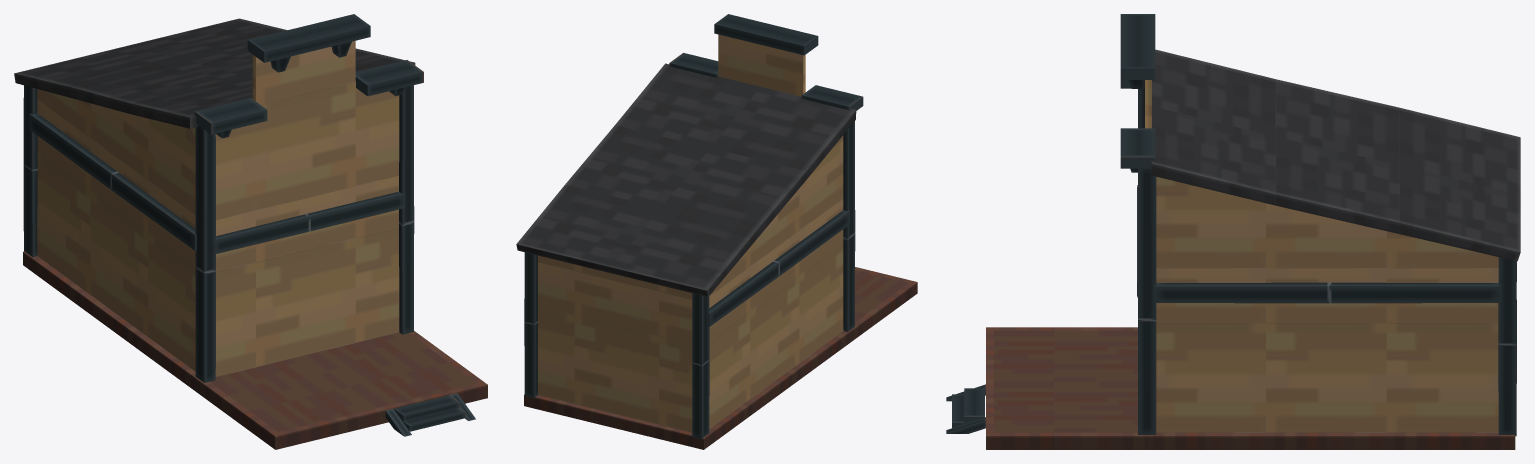
File: house_v4_blank_ncl1_5.fbx
3 renders of one model, left to right at view 1: azimuth 30°, elevation 25°; view 2: azimuth 150°, elevation 25°; view 3: azimuth 270°, elevation 25°, orthographic. The views are drawn at different scales.
Parts seen in each view (by area): view 1: house_v4_blank; view 2: house_v4_blank; view 3: house_v4_blank.
Boxes of the visible parts, <box> form: house_v4_blank: <box>14,14,487,449</box>; house_v4_blank: <box>516,14,917,449</box>; house_v4_blank: <box>946,14,1520,449</box>.
Bounding box in the file's own units: 451 × 647 × 951.
